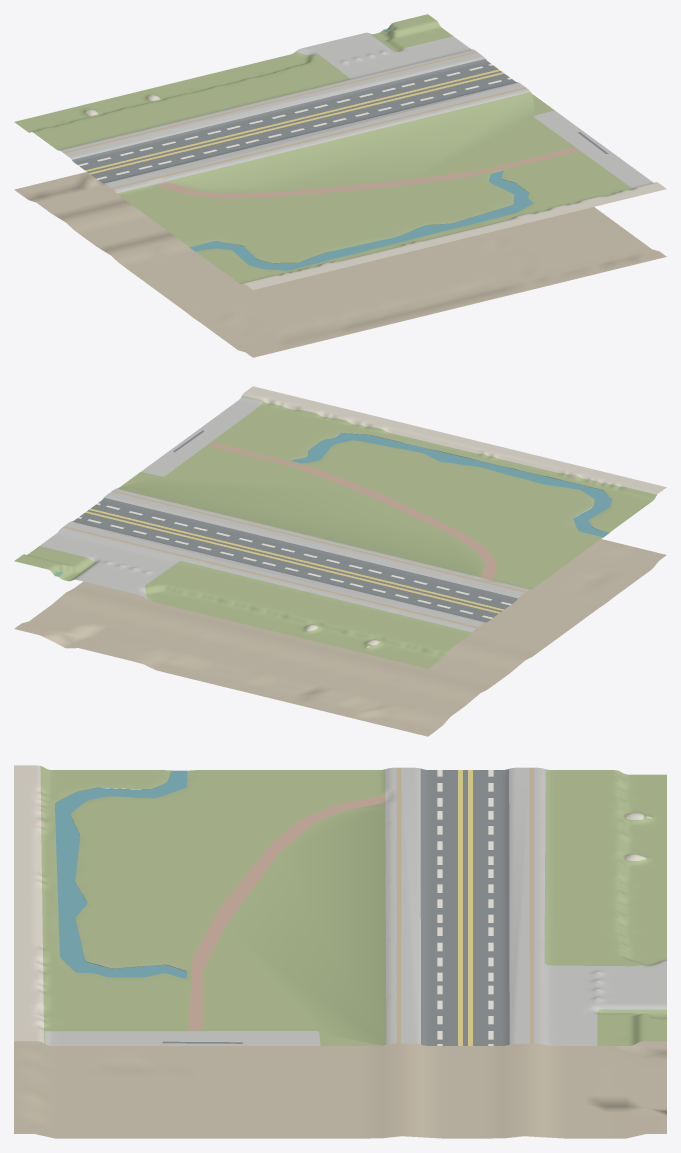
The picture shows the model from 3 angles, top to bottom: view 1: azimuth 30°, elevation 25°; view 2: azimuth 150°, elevation 25°; view 3: azimuth 270°, elevation 25°; orthographic projection. The views are drawn at different scales.
Visible parts, largest first — view 1: s_-2_1__grass, s_-2_1__soil, s_-2_1__stone_paving, s_-2_1__asphalt, s_-2_1__paving, s_-2_1__water, s_-2_1__brick_paving, s_-2_1__yellow_marking, s_-2_1__timber_deck, s_-2_1__white_marking; view 2: s_-2_1__grass, s_-2_1__soil, s_-2_1__stone_paving, s_-2_1__asphalt, s_-2_1__paving, s_-2_1__water, s_-2_1__brick_paving, s_-2_1__yellow_marking, s_-2_1__timber_deck, s_-2_1__white_marking; view 3: s_-2_1__grass, s_-2_1__soil, s_-2_1__stone_paving, s_-2_1__asphalt, s_-2_1__paving, s_-2_1__water, s_-2_1__brick_paving, s_-2_1__timber_deck, s_-2_1__yellow_marking, s_-2_1__white_marking.
Part boxes in pixels (<box>): s_-2_1__grass: <box>14,14,633,283</box>; s_-2_1__soil: <box>14,172,666,357</box>; s_-2_1__stone_paving: <box>59,32,653,193</box>; s_-2_1__asphalt: <box>72,58,608,183</box>; s_-2_1__paving: <box>85,51,666,289</box>; s_-2_1__water: <box>190,171,532,270</box>; s_-2_1__brick_paving: <box>156,148,578,198</box>; s_-2_1__yellow_marking: <box>85,69,503,174</box>; s_-2_1__timber_deck: <box>63,51,526,189</box>; s_-2_1__white_marking: <box>78,64,511,179</box>; s_-2_1__grass: <box>14,396,656,668</box>; s_-2_1__soil: <box>14,474,666,736</box>; s_-2_1__stone_paving: <box>40,396,530,632</box>; s_-2_1__asphalt: <box>72,430,517,622</box>; s_-2_1__paving: <box>107,386,666,647</box>; s_-2_1__water: <box>292,433,611,537</box>; s_-2_1__brick_paving: <box>208,442,496,580</box>; s_-2_1__yellow_marking: <box>85,508,504,613</box>; s_-2_1__timber_deck: <box>63,490,526,628</box>; s_-2_1__white_marking: <box>78,503,511,618</box>; s_-2_1__grass: <box>40,766,666,1045</box>; s_-2_1__soil: <box>14,800,666,1138</box>; s_-2_1__stone_paving: <box>44,767,666,1045</box>; s_-2_1__asphalt: <box>162,768,509,1045</box>; s_-2_1__paving: <box>14,765,651,1042</box>; s_-2_1__water: <box>55,770,187,978</box>; s_-2_1__brick_paving: <box>188,795,385,1030</box>; s_-2_1__timber_deck: <box>396,767,534,1043</box>; s_-2_1__yellow_marking: <box>458,770,472,1045</box>; s_-2_1__white_marking: <box>437,770,493,1045</box>.
Bounding box in the file's own units: 128 × 22.01 × 128.
